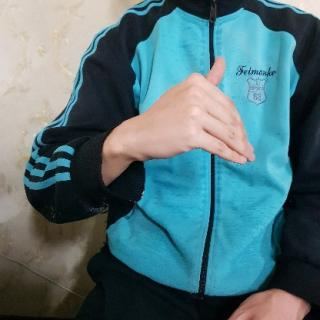KHAA: (114, 53, 260, 177)
